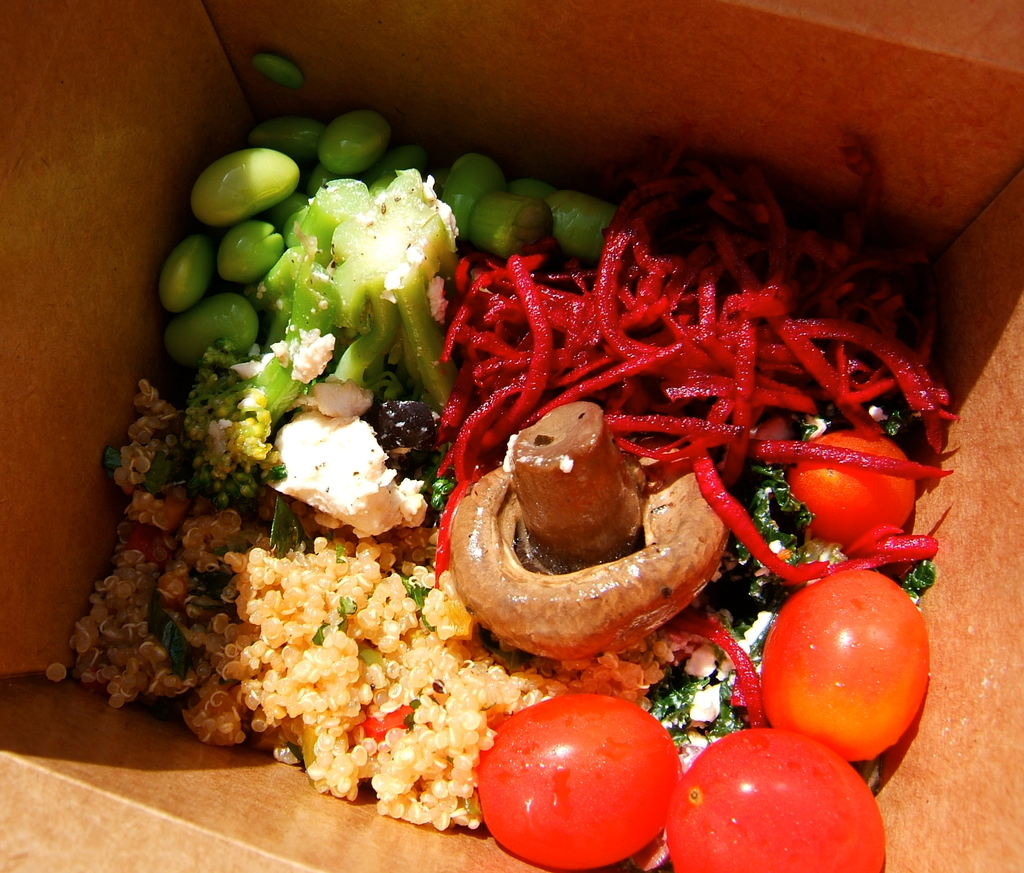Tomato: (472, 691, 683, 868), (748, 573, 930, 765), (668, 730, 879, 872), (780, 424, 912, 551)
